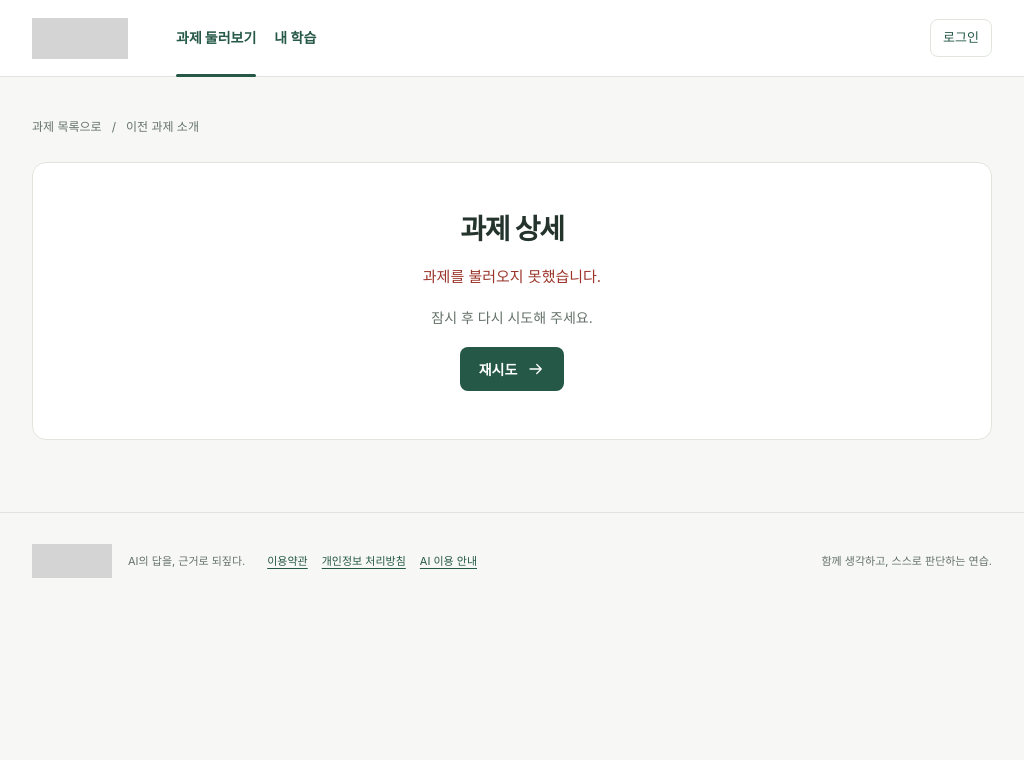
Test: retries legacy detail after server failure
Expected: the message reads "과제를 불러오지 못했습니다.", [423,267,601,286]
What coordinates should you click on to do the following:
click the button "재시도"
I would click on:
 (512, 369)
Its box is [460,347,564,391].
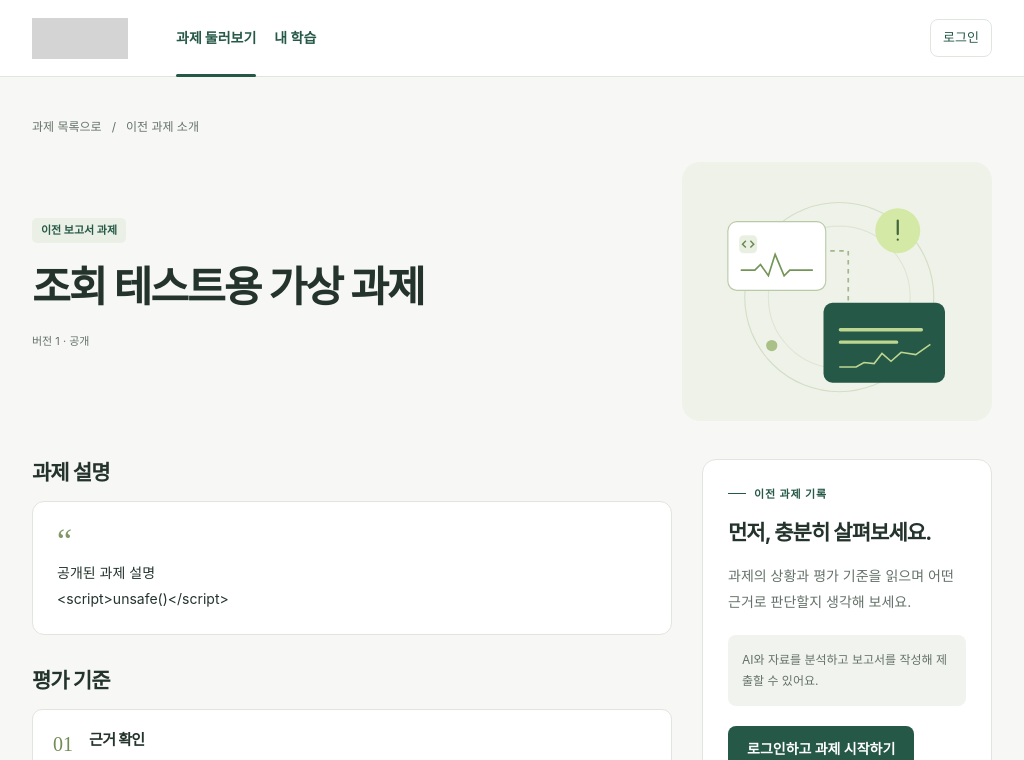
Now the heading "조회 테스트용 가상 과제" is shown, box [32,261,424,312]
